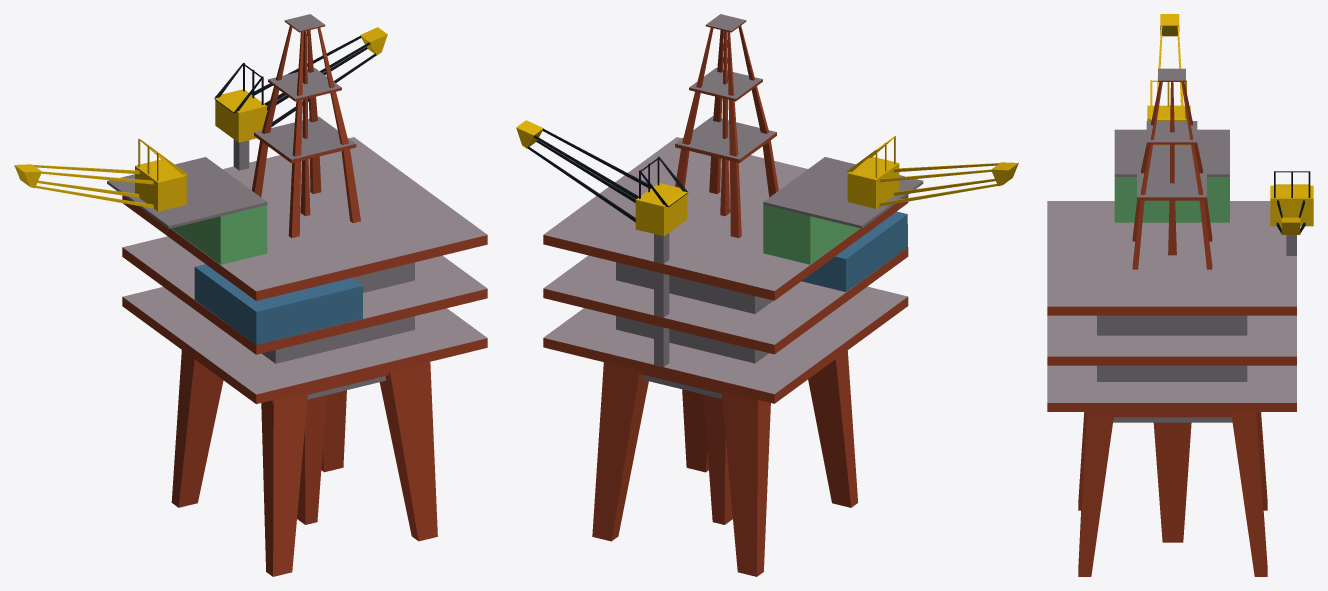
The model's file is Oil platform.fbx.
3 views of the same model, side by side, from view 1: azimuth 30°, elevation 25°; view 2: azimuth 150°, elevation 25°; view 3: azimuth 270°, elevation 25° (orthographic). The views are drawn at different scales.
Parts seen in each view (by area): view 1: Cube, Cube.003, crane, crane.001; view 2: Cube, Cube.003, crane, crane.001; view 3: Cube, Cube.003, crane, crane.001.
Part boxes in pixels (x1,y1,x2,y2): Cube: (107, 137, 487, 404); Cube.003: (171, 14, 437, 576); crane: (214, 27, 387, 170); crane.001: (14, 138, 187, 211); Cube: (543, 137, 923, 403); Cube.003: (592, 14, 857, 576); crane: (516, 120, 688, 366); crane.001: (846, 136, 1018, 208); Cube: (1047, 129, 1296, 422); Cube.003: (1078, 68, 1267, 576); crane: (1270, 171, 1313, 255); crane.001: (1147, 14, 1190, 145).
Bounding box in the file's own units: 1828 × 2029 × 1053.
